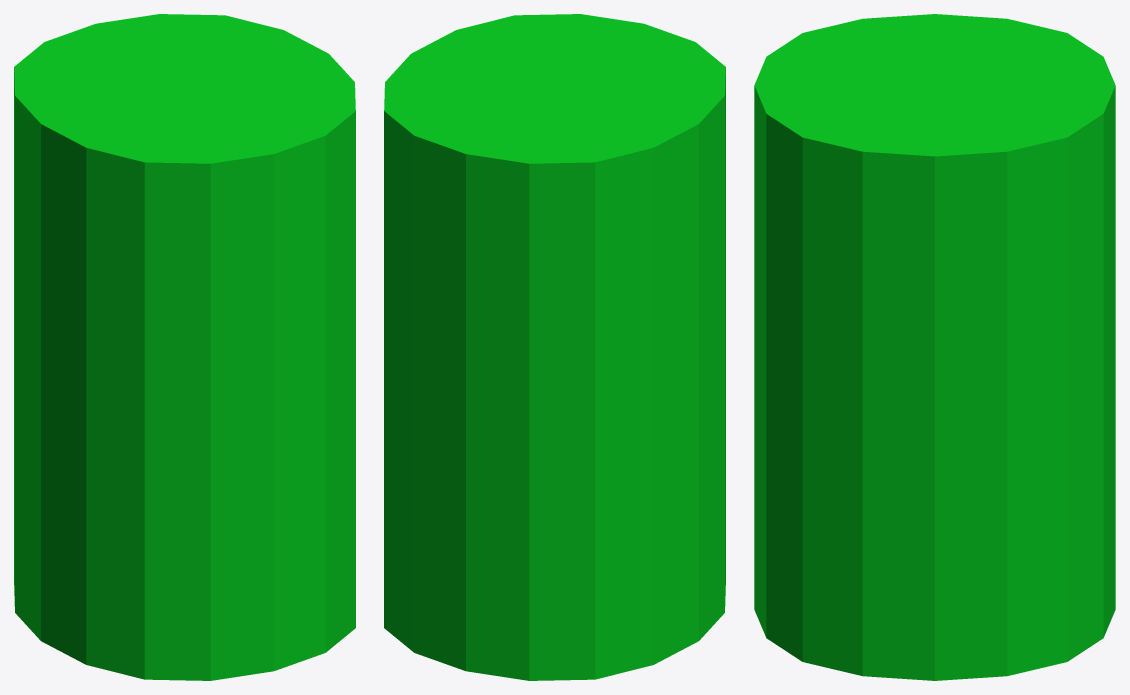
Rendered from green_cone.dae.
The picture shows the model from 3 angles, left to right: view 1: azimuth 30°, elevation 25°; view 2: azimuth 150°, elevation 25°; view 3: azimuth 270°, elevation 25°; orthographic projection.
Parts seen in each view (by area): view 1: Plane; view 2: Plane; view 3: Plane.
Part boxes in pixels (box(x1,y1,x2,y2)): Plane: box(14, 14, 355, 680); Plane: box(384, 14, 725, 680); Plane: box(754, 14, 1115, 680).
Size of the model in its own units: 0.6562 by 0.7031 by 1.13.
